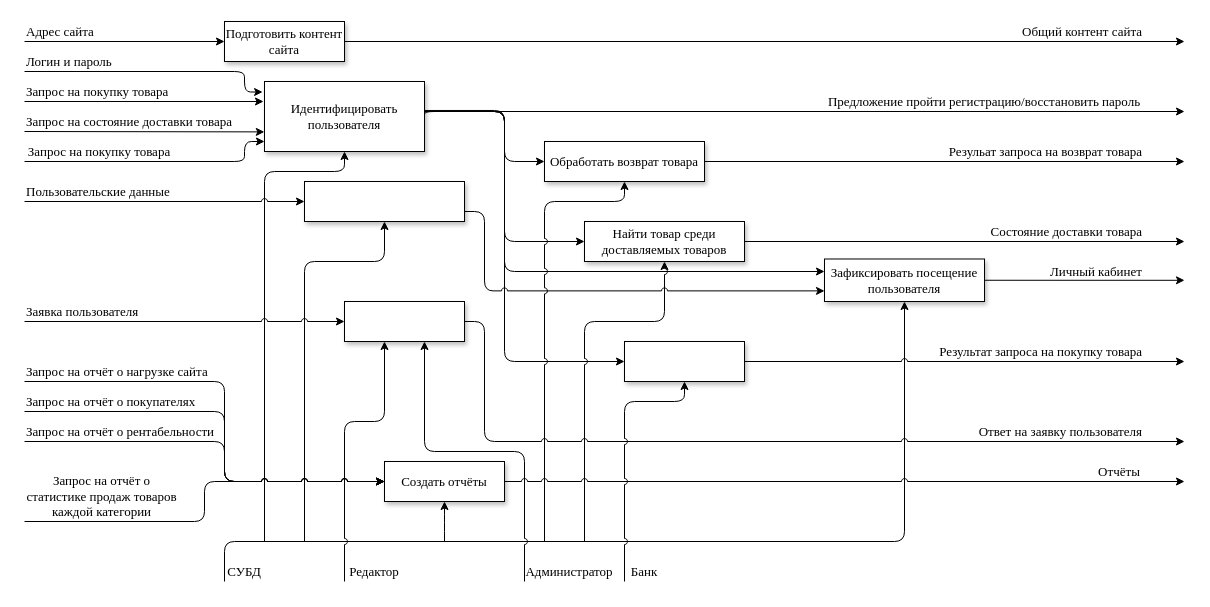
Some shapes in this 1210 by 607 pixel diagram are drawn without their labels. Here are the shapes that lost their labels. From the top down, the centre of each, then its label:
pixel 385 202: Добавить нового пользователя в базу данных
pixel 405 322: Обработать заявку пользователя
pixel 685 362: Совершить покупку
